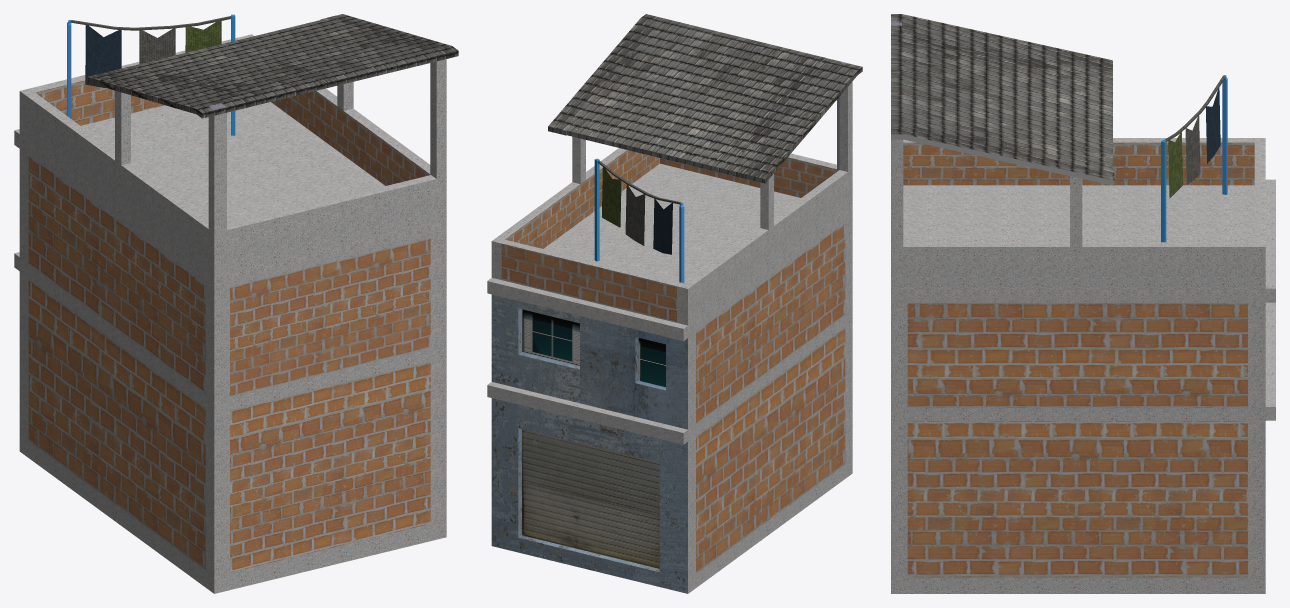
Rendered from favela_brasileira_2 (1).glb.
3 views of the same model, side by side, from view 1: azimuth 30°, elevation 25°; view 2: azimuth 150°, elevation 25°; view 3: azimuth 270°, elevation 25° (orthographic). The views are drawn at different scales.
Parts seen in each view (by area): view 1: Cube, Cubo; view 2: Cube, Cubo, Cubo.001; view 3: Cube, Cubo, Cubo.001.
Boxes of the visible parts, box(x1,y1,x2,y2) form: Cube: box(14, 14, 458, 593); Cubo: box(67, 16, 231, 118); Cube: box(487, 14, 862, 593); Cubo: box(597, 160, 684, 283); Cubo.001: box(594, 158, 599, 261); Cube: box(891, 14, 1275, 593); Cubo: box(1164, 75, 1227, 198); Cubo.001: box(1161, 140, 1166, 242).
Size of the model in its own units: 7.67 by 13.82 by 10.36.
14 materials, 11 textured.
